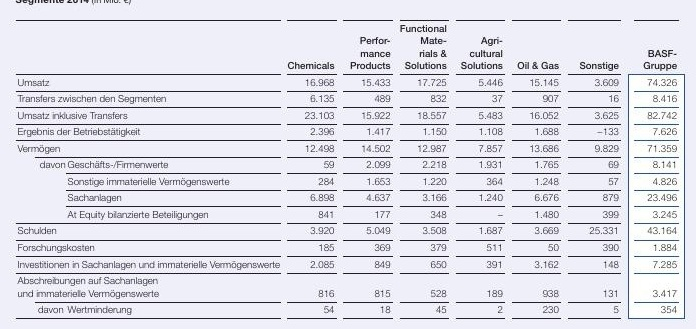table: (0, 0, 696, 329)
